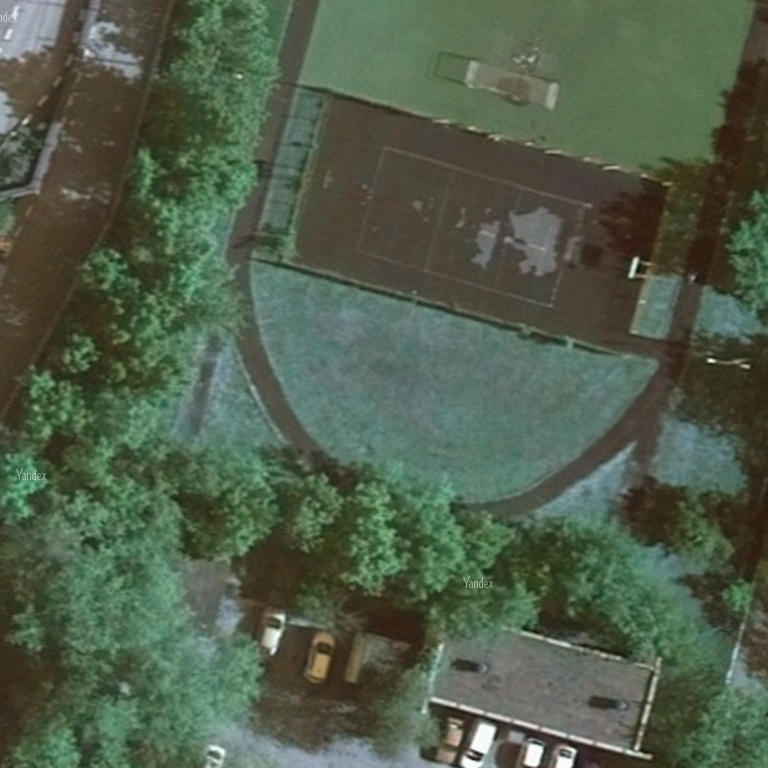basket_court: (264, 79, 689, 361)
